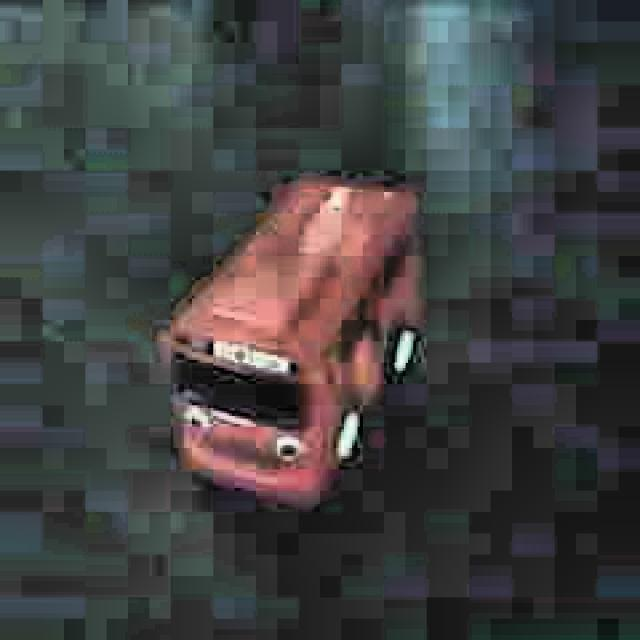bus: (154, 171, 431, 514)
